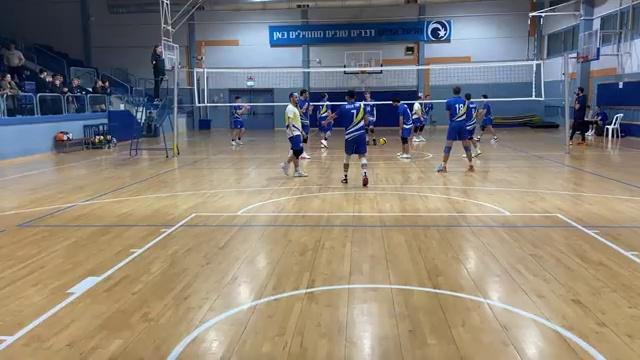ball: (378, 134, 390, 147)
